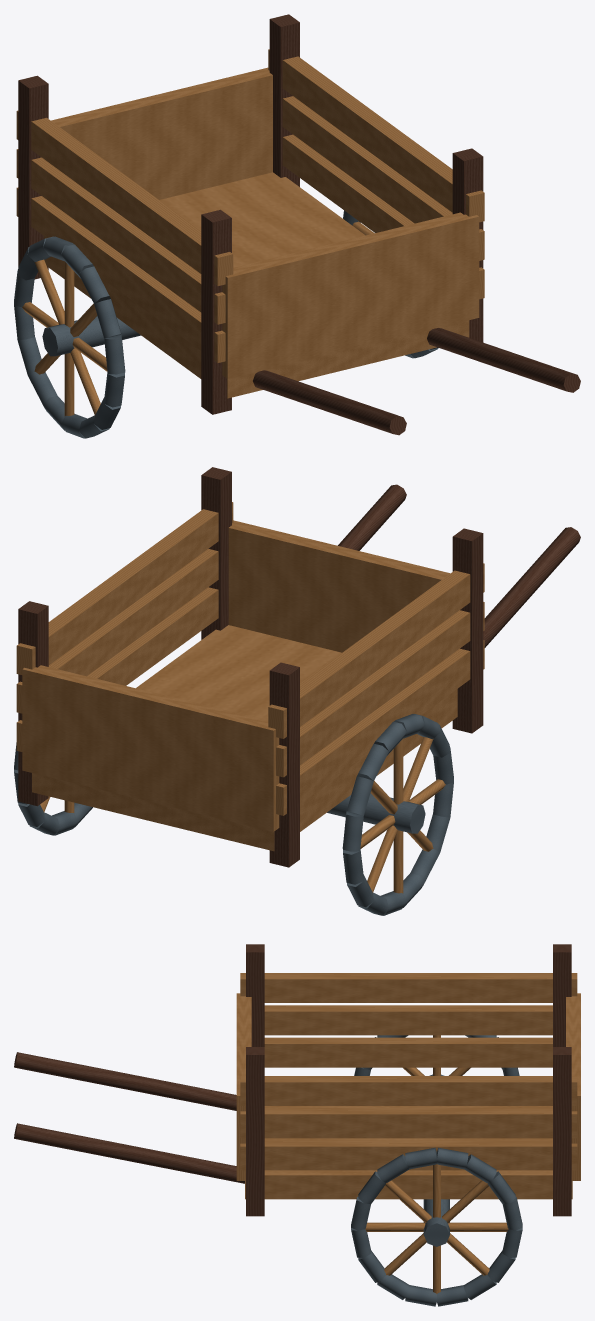
The model's file is handcart.glb.
3 renders of one model, top to bottom at view 1: azimuth 30°, elevation 25°; view 2: azimuth 150°, elevation 25°; view 3: azimuth 270°, elevation 25°, orthographic. The views are drawn at different scales.
Visible parts, largest first — view 1: handcart; view 2: handcart; view 3: handcart.
Boxes of the visible parts, x1=… form: handcart: x1=14, y1=14, x2=580, y2=438; handcart: x1=14, y1=467, x2=580, y2=915; handcart: x1=14, y1=944, x2=580, y2=1306.
Bounding box in the file's own units: 1.9 × 1.4 × 3.03.
3 materials, 3 textured.
